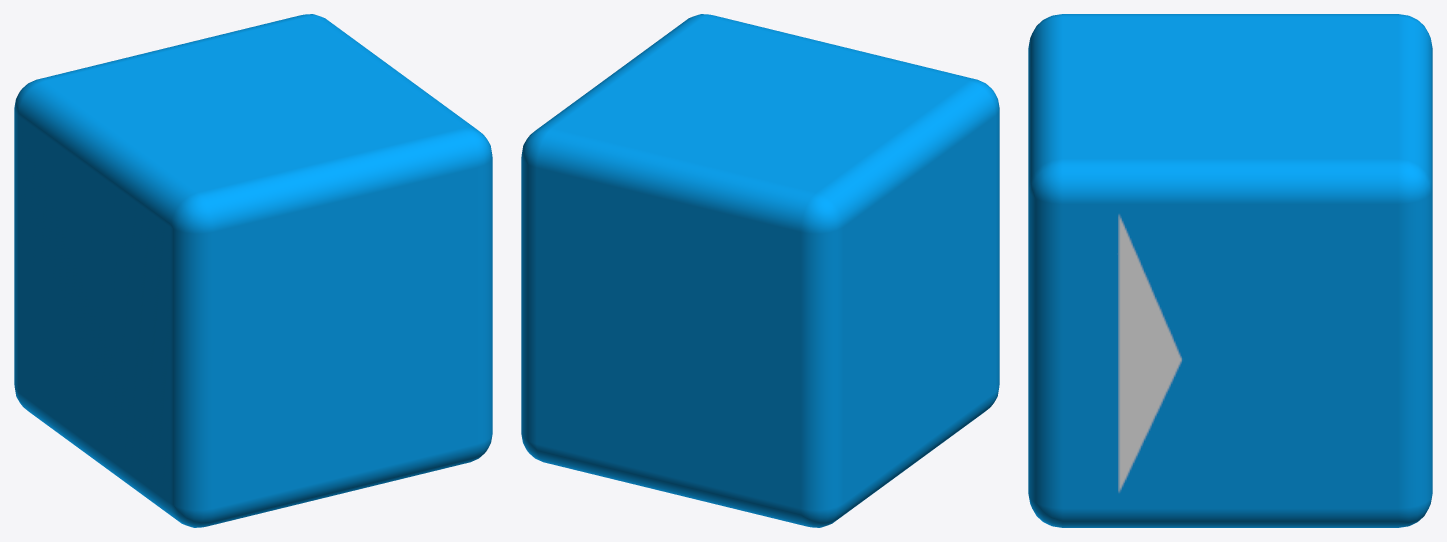
The model's file is box_blue_arrow.fbx.
3 renders of one model, left to right at view 1: azimuth 30°, elevation 25°; view 2: azimuth 150°, elevation 25°; view 3: azimuth 270°, elevation 25°, orthographic. The views are drawn at different scales.
Visible parts, largest first — view 1: Cube; view 2: Cube; view 3: Cube.
Part boxes in pixels (x1,y1,x2,y2): Cube: (14,14,492,527); Cube: (521,14,999,527); Cube: (1028,14,1432,527).
Bounding box in the file's own units: 200 × 200 × 200.
Materials: 1 (1 with a texture image).
